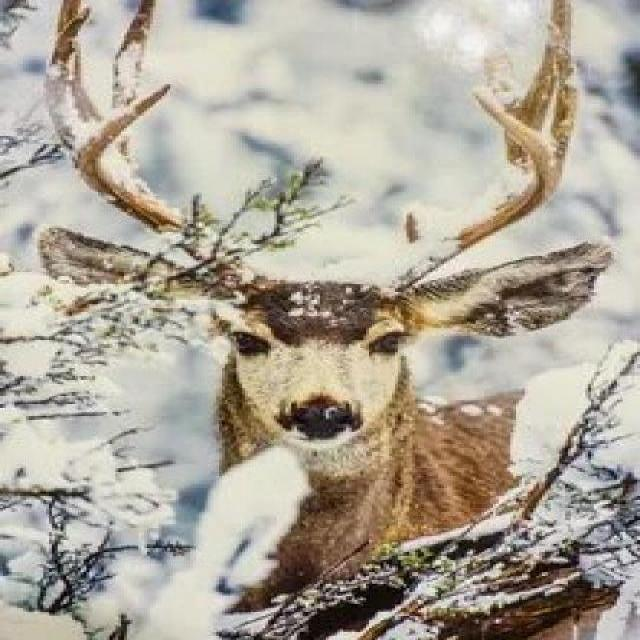deer: (74, 80, 630, 597)
